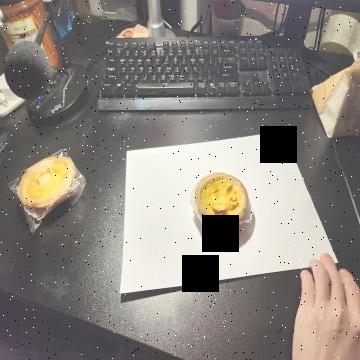EggTart: (194, 171, 249, 227)
